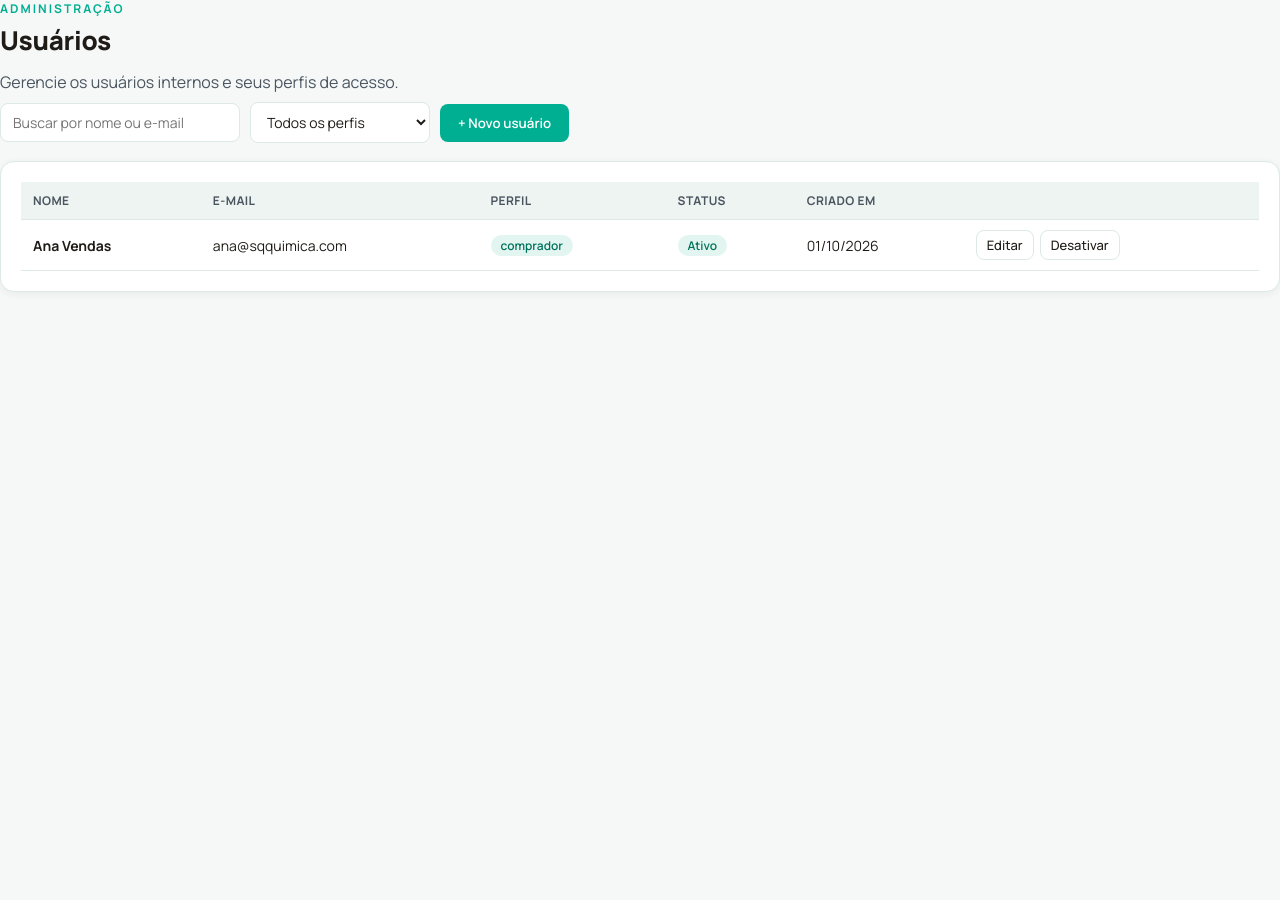
Test case: Usuarios › 8. Editar abre o modal com nome/perfil do usuário, e-mail travado e sem senha
Click the button with aria-label "Editar Ana Vendas": [1005, 245] box [976,230,1034,260]
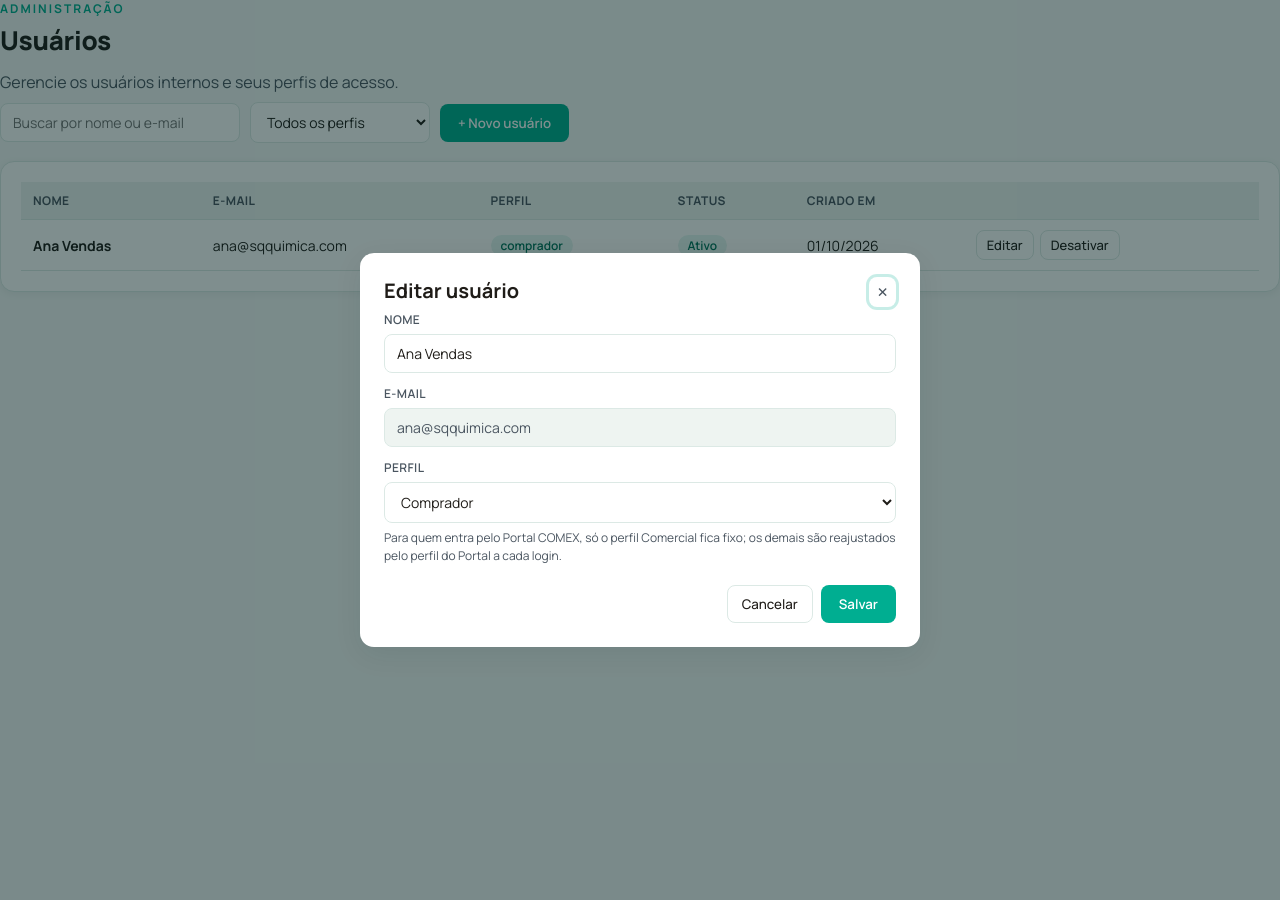
Expected: the heading "Editar usuário" is shown, [384,277,519,304]
Expected: the field labelled "Nome" holds "Ana Vendas", [384,334,896,373]
Expected: the field labelled "E-mail" holds "ana@sqquimica.com", [384,408,896,447]
